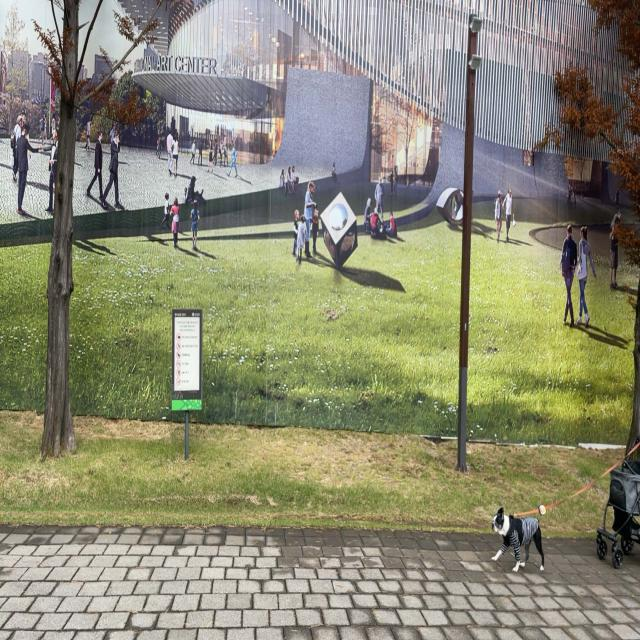Dog: (490, 504, 545, 575)
